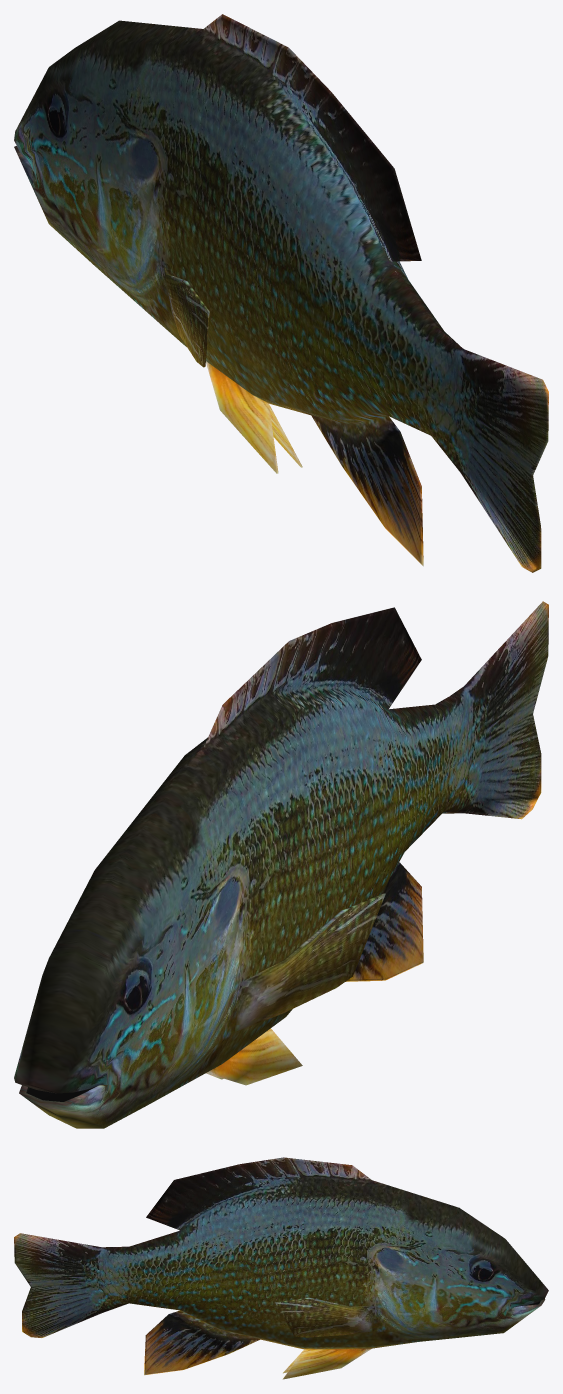
File: Fish.fbx
3 views of the same model, one above another, from view 1: azimuth 30°, elevation 25°; view 2: azimuth 150°, elevation 25°; view 3: azimuth 270°, elevation 25° (orthographic). The views are drawn at different scales.
Parts seen in each view (by area): view 1: Fish; view 2: Fish; view 3: Fish.
Part boxes in pixels (x1,y1,x2,y2): Fish: (14,14,548,572); Fish: (14,601,548,1128); Fish: (14,1157,548,1379).
Size of the model in its own units: 0.0343 by 0.0781 by 0.1729.
1 material, 1 textured.
